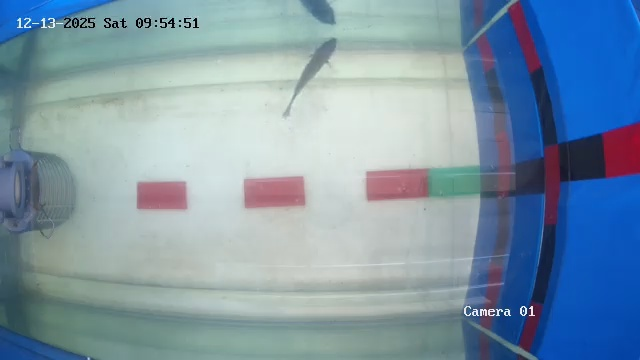fish: (275, 36, 362, 113)
